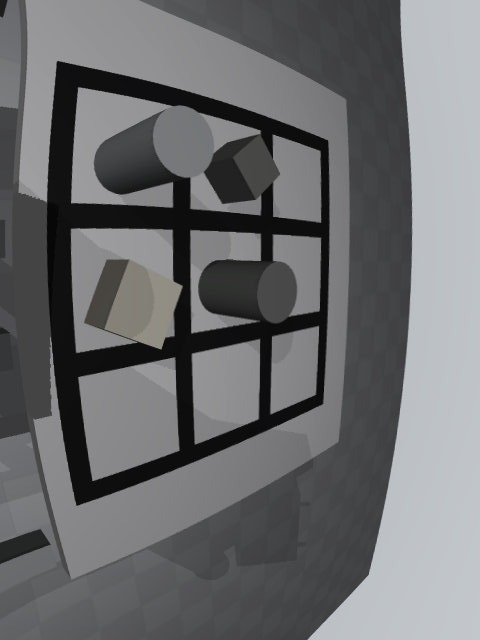can: (94, 105, 214, 195)
cube: (204, 134, 280, 204)
cylinder: (198, 260, 298, 323)
foam: (84, 259, 182, 349)
